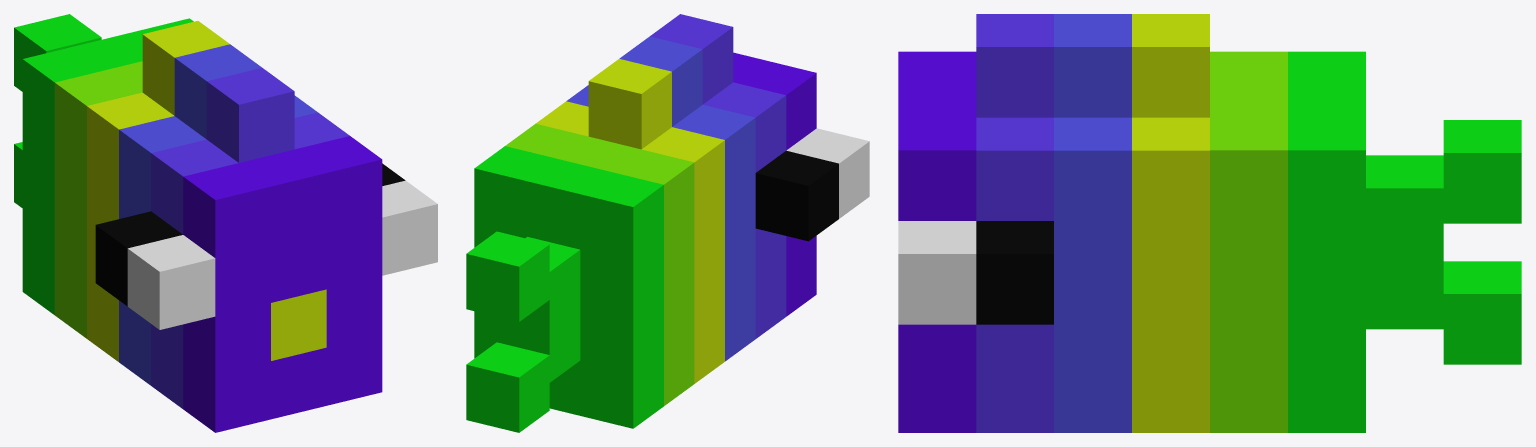
Rendered from npc-babyfish.glb.
3 renders of one model, left to right at view 1: azimuth 30°, elevation 25°; view 2: azimuth 150°, elevation 25°; view 3: azimuth 270°, elevation 25°, orthographic. The views are drawn at different scales.
Visible parts, largest first — view 1: Cube359_1, Cube359_4, Cube359, Cube359_2, Cube359_6, Cube359_3, Cube359_5, Cube359_7; view 2: Cube359, Cube359_4, Cube359_3, Cube359_5, Cube359_2, Cube359_7, Cube359_1, Cube359_6; view 3: Cube359, Cube359_3, Cube359_4, Cube359_5, Cube359_2, Cube359_1, Cube359_6, Cube359_7.
Boxes of the visible parts, box(x1,y1,x2,y2) form: Cube359_1: box(183, 136, 382, 432); Cube359_4: box(87, 21, 326, 361); Cube359: box(14, 14, 193, 314); Cube359_2: box(151, 67, 349, 408); Cube359_6: box(127, 180, 437, 329); Cube359_3: box(119, 44, 317, 385); Cube359_5: box(54, 61, 142, 338); Cube359_7: box(95, 163, 405, 306); Cube359: box(466, 146, 663, 432); Cube359_4: box(536, 59, 724, 383); Cube359_3: box(566, 36, 755, 361); Cube359_5: box(505, 123, 694, 405); Cube359_2: box(650, 14, 786, 338); Cube359_7: box(755, 150, 838, 241); Cube359_1: box(733, 52, 816, 316); Cube359_6: box(786, 128, 869, 218); Cube359: box(1288, 51, 1521, 432); Cube359_3: box(1054, 14, 1131, 432); Cube359_4: box(1132, 14, 1209, 432); Cube359_5: box(1210, 51, 1287, 432); Cube359_2: box(976, 14, 1053, 432); Cube359_1: box(898, 51, 976, 432); Cube359_6: box(898, 221, 976, 324); Cube359_7: box(976, 221, 1053, 324).
Size of the model in its own units: 10 by 10 by 16.
